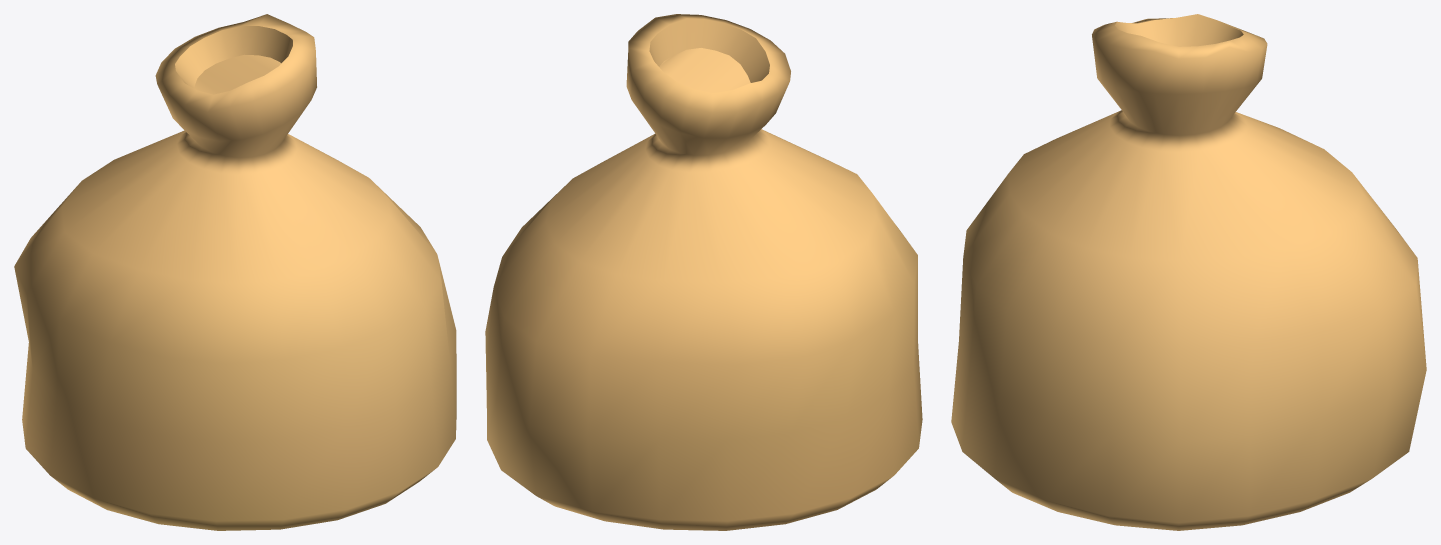
Rendered from Ricebag.fbx.
3 renders of one model, left to right at view 1: azimuth 30°, elevation 25°; view 2: azimuth 150°, elevation 25°; view 3: azimuth 270°, elevation 25°, orthographic. The views are drawn at different scales.
Visible parts, largest first — view 1: Rice_bag; view 2: Rice_bag; view 3: Rice_bag.
Boxes of the visible parts, box(x1,y1,x2,y2) form: Rice_bag: box(14, 14, 456, 530); Rice_bag: box(485, 14, 922, 530); Rice_bag: box(951, 14, 1426, 530).
Bounding box in the file's own units: 80.69 × 80.67 × 81.96.
